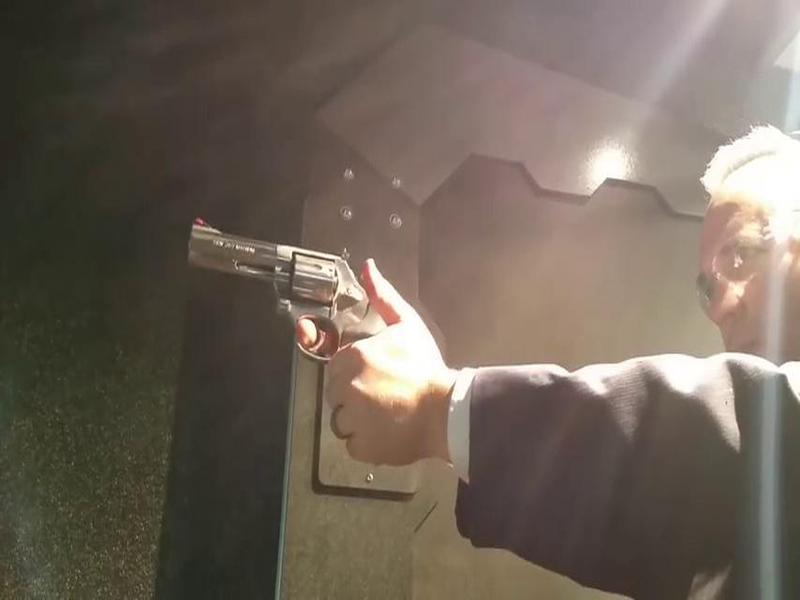Revolver: (176, 209, 384, 392)
